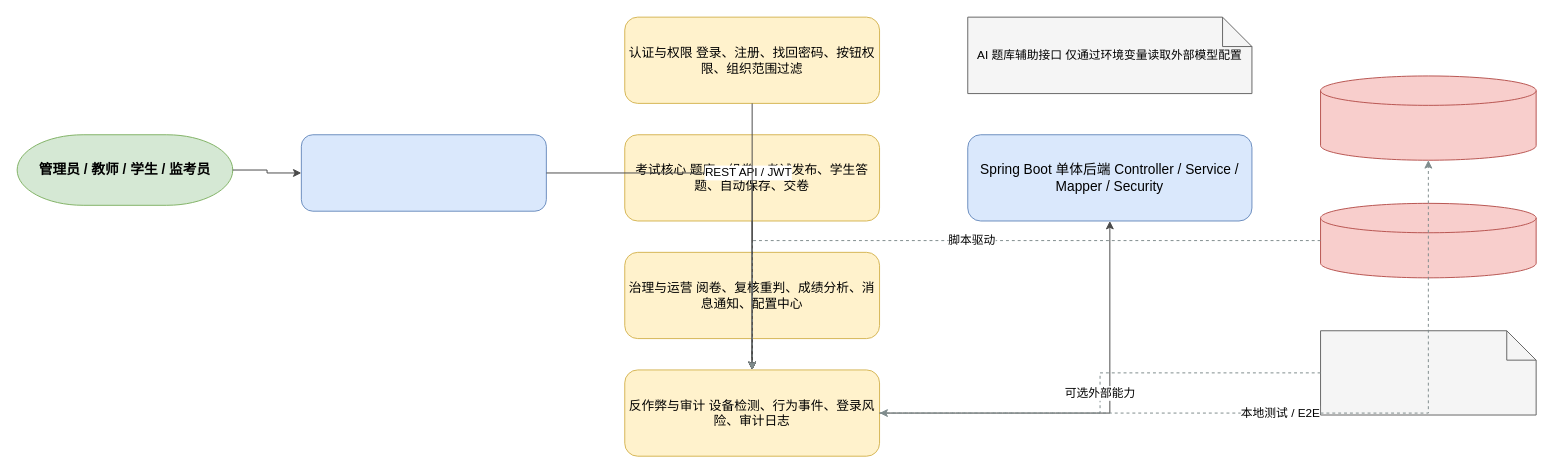
This 1553x473 diagram has some shape labels left out. The box of each missing label's shape, as (x1, y1, x2, y2) in pixels:
H2 回归数据源 本地快速启动与集成测试: (1320, 202, 1536, 278)
MySQL 正式数据源 用户、题库、试卷、考试、成绩、通知、日志: (1320, 75, 1536, 160)
浏览器访问层 Vue 3 + Vite + Element Plus: (300, 134, 546, 211)
脚本与运维资源 初始化、备份恢复、压测、Playwright 回归: (1320, 330, 1536, 415)
